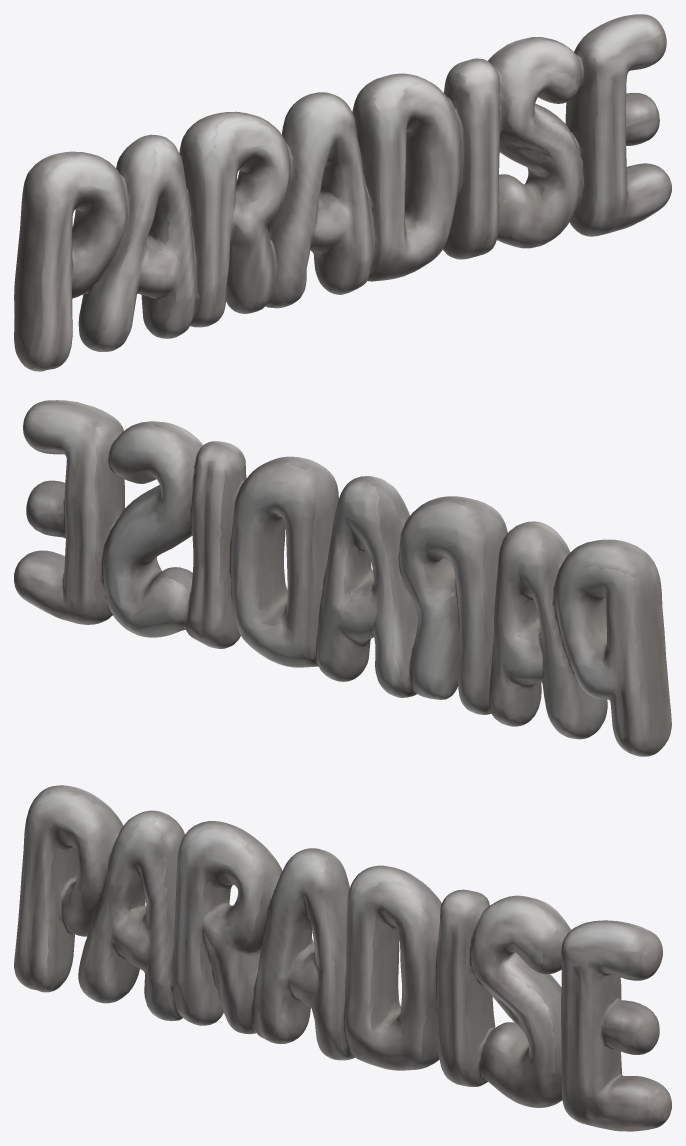
The model's file is paradise.glb.
3 renders of one model, top to bottom at view 1: azimuth 30°, elevation 25°; view 2: azimuth 150°, elevation 25°; view 3: azimuth 330°, elevation 25°, orthographic.
Parts seen in each view (by area): view 1: demo_textured.obj; view 2: demo_textured.obj; view 3: demo_textured.obj.
Boxes of the visible parts, left/top/right/bottom form: demo_textured.obj: left=14, top=14, right=671, bottom=371; demo_textured.obj: left=14, top=400, right=671, bottom=756; demo_textured.obj: left=14, top=785, right=671, bottom=1131.
Size of the model in its own units: 1.99 by 0.6245 by 0.2178.
Materials: 1 (1 with a texture image).
